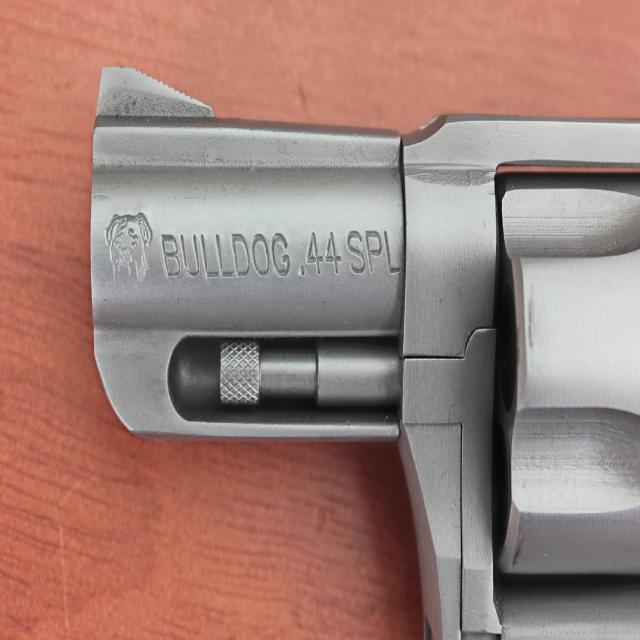Gun: (83, 45, 640, 634)
